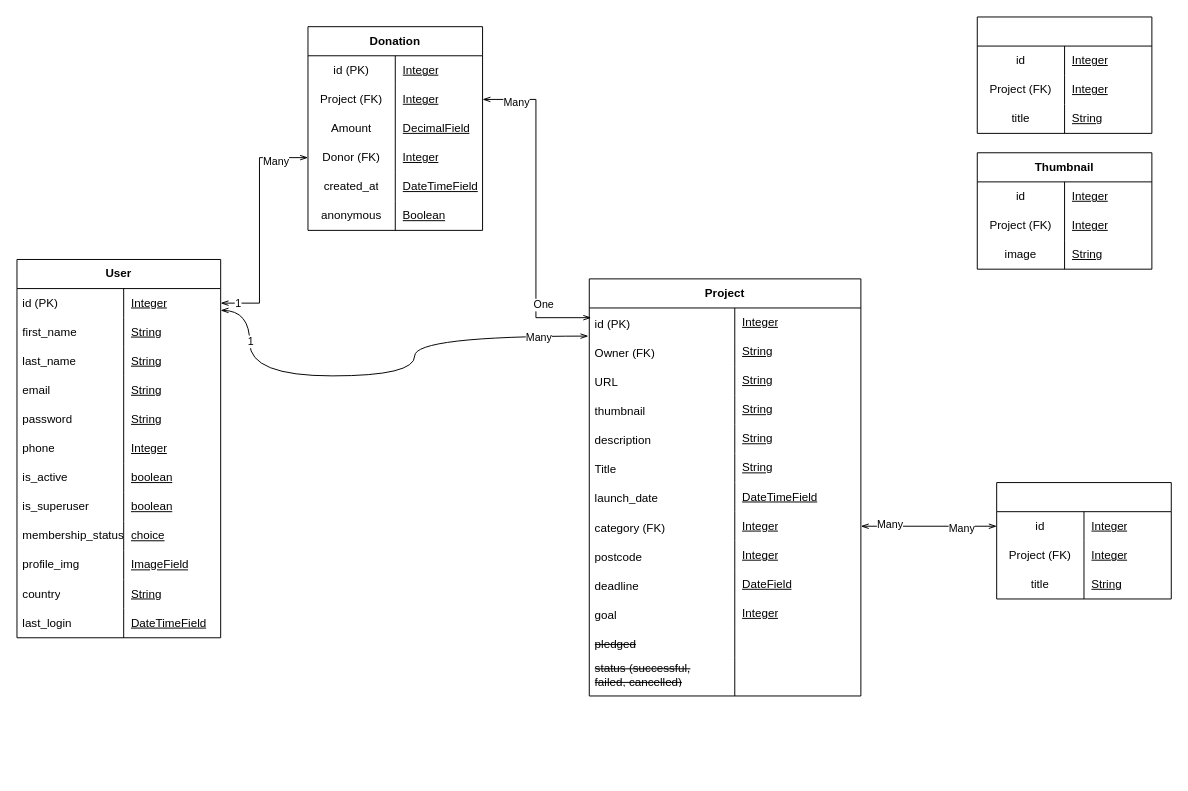
The diagram is 1188 pixels wide and 791 high, and some of its shapes have lost their labels. Each missing label, with the box of its shape:
Category: (996, 482, 1171, 599)
Collections: (976, 16, 1152, 133)
